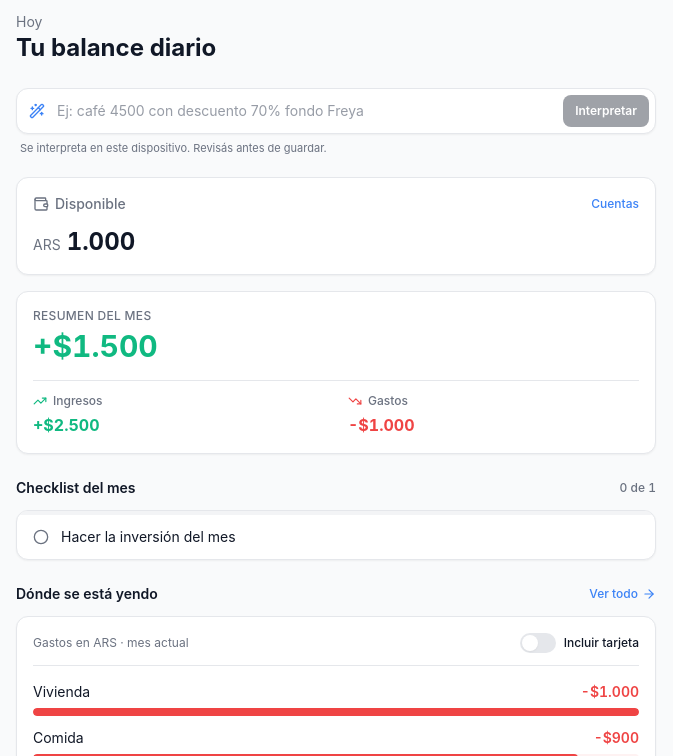
Dashboard expense categories › adds both card purchase types and recalculates proportional bars
The width and height of the screenshot is (673, 756).
Click the switch labelled "Incluir tarjeta" at point(579, 642), box [520,632,639,652]
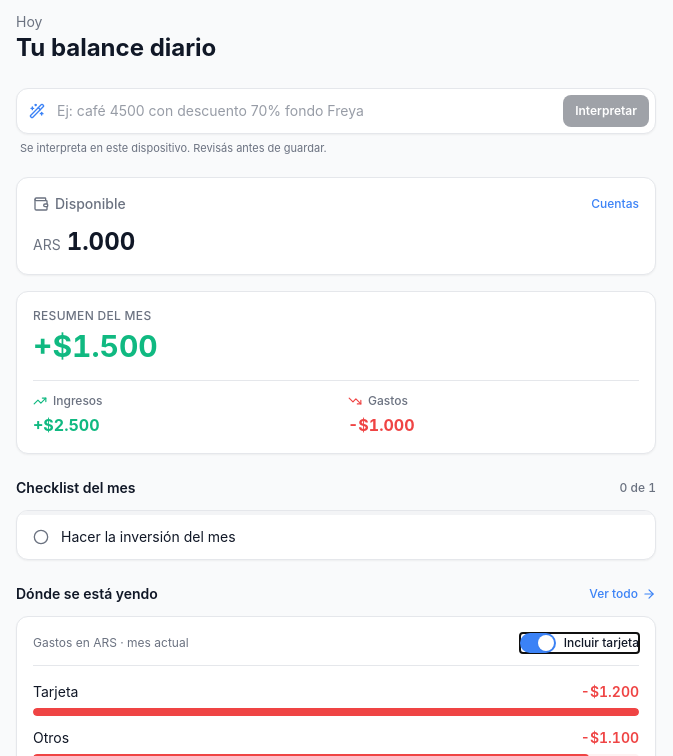
Expected: the text "tarjeta" is shown, [33,682,78,702]
Expected: the text "otros" is shown, [33,728,69,748]
